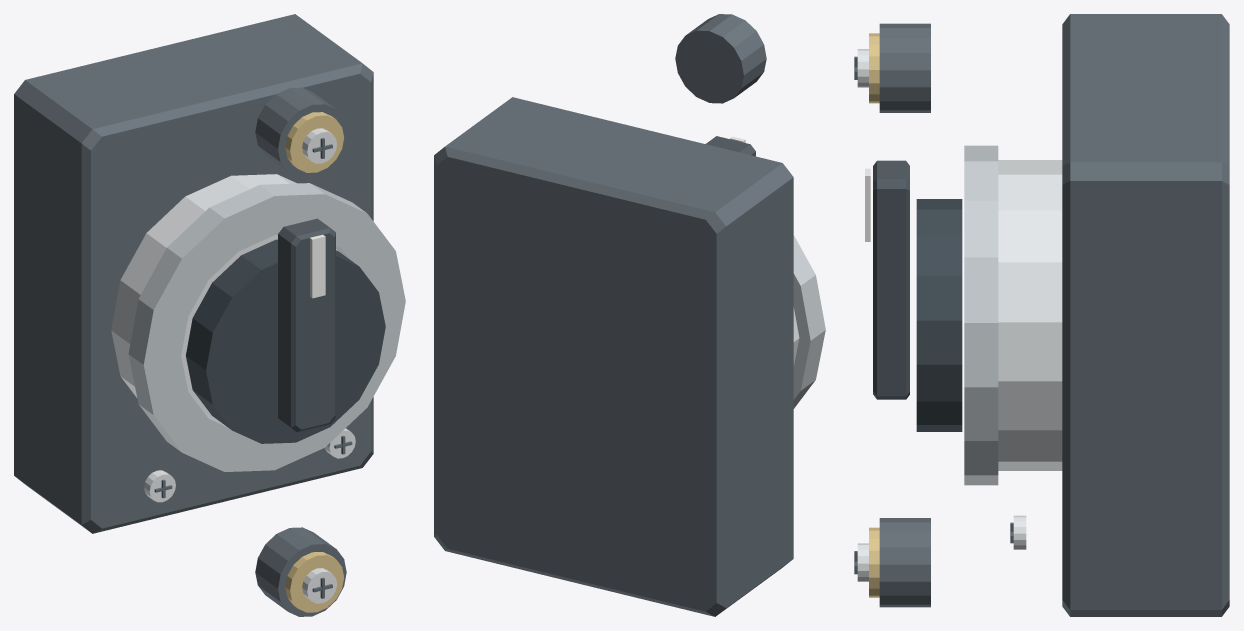
The model's file is selectorSwitch.glb.
3 renders of one model, left to right at view 1: azimuth 30°, elevation 25°; view 2: azimuth 150°, elevation 25°; view 3: azimuth 270°, elevation 25°, orthographic. The views are drawn at different scales.
Visible parts, largest first — view 1: selectorSwitch-preview; view 2: selectorSwitch-preview; view 3: selectorSwitch-preview.
Part boxes in pixels (x1,y1,x2,y2): selectorSwitch-preview: [14, 14, 405, 616]; selectorSwitch-preview: [434, 14, 825, 616]; selectorSwitch-preview: [854, 14, 1229, 616].
Bounding box in the file's own units: 1.33 × 2.23 × 1.32.
